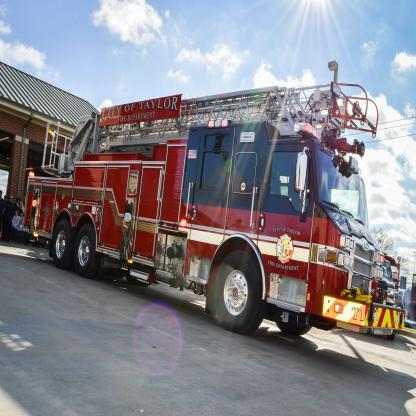fire-truck: (32, 67, 416, 376)
